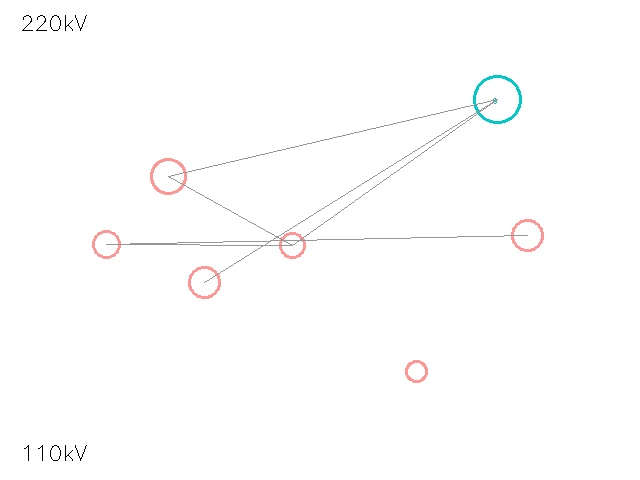current_transformer: (134, 142, 202, 210)
disconnect_switch: (497, 205, 557, 265), (80, 218, 132, 270)
feeder_terminal: (173, 251, 235, 313)
fuse: (395, 350, 437, 392)
generator: (474, 76, 520, 122)
reactor: (267, 220, 317, 270)
